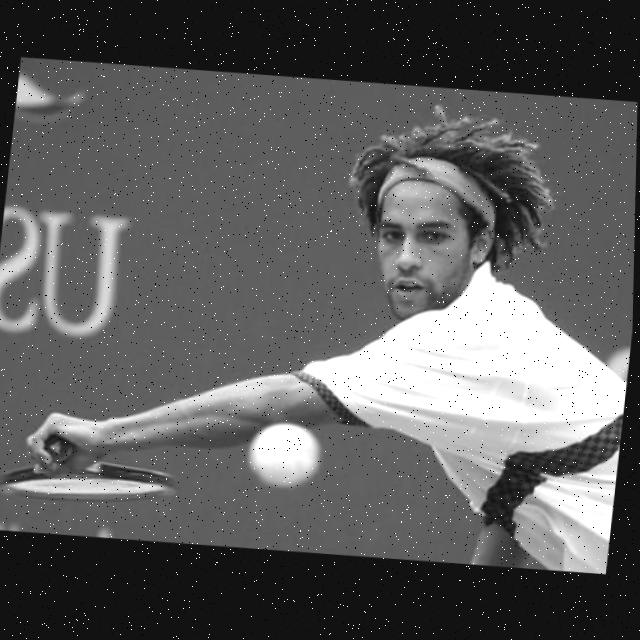face: (350, 166, 489, 334)
